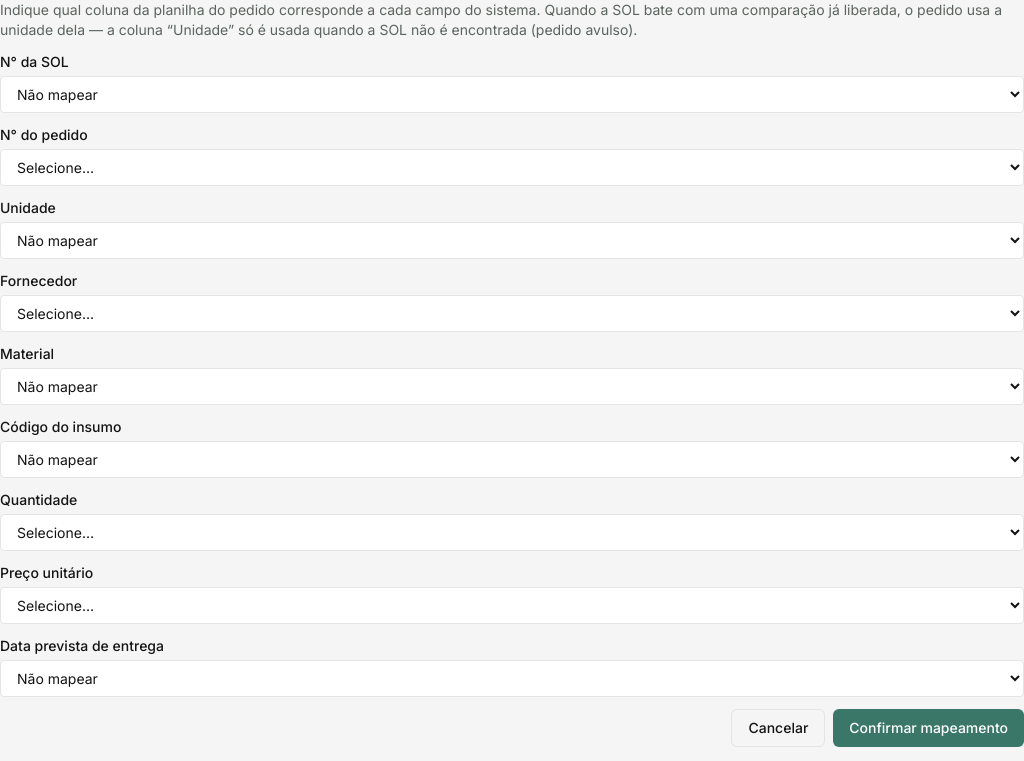
OrderImportMappingForm › exige que os campos obrigatórios sejam mapeados (SOL e Unidade ficam de fora — nenhum dos dois é obrigatório sozinho)
Click the button "Confirmar mapeamento" at (929, 728), box [833, 709, 1023, 747]
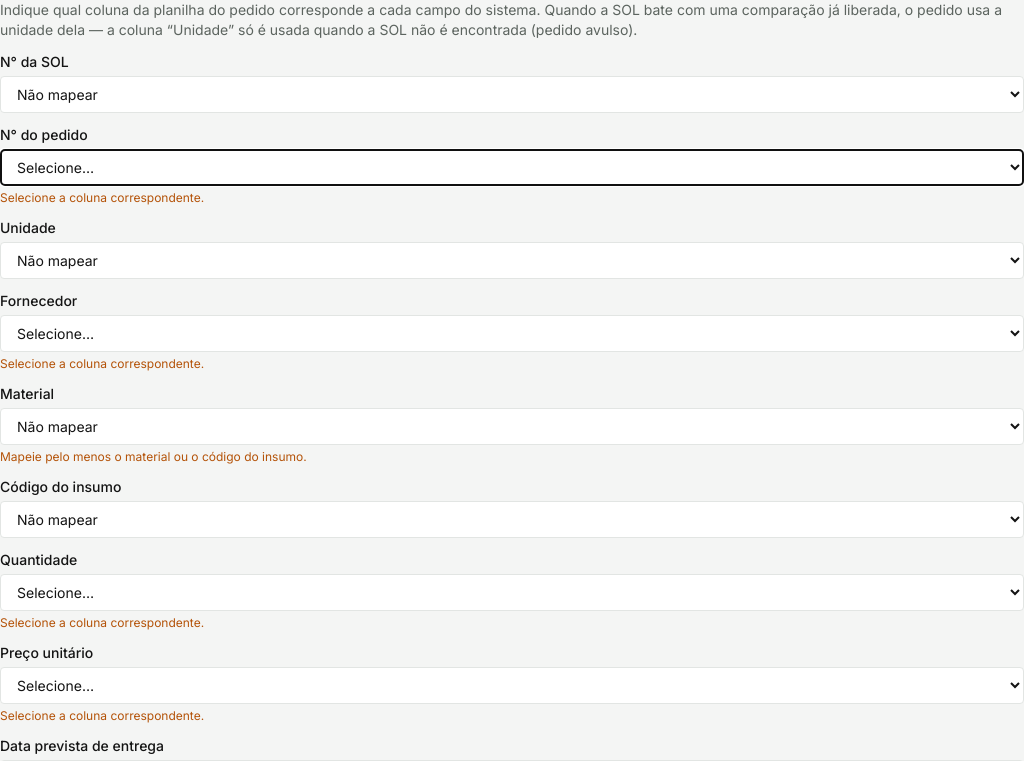
Expected: the text "Selecione a coluna correspondente." is shown 4 times, [0, 190, 204, 205]; [0, 356, 204, 371]; [0, 615, 204, 630]; [0, 708, 204, 723]
Expected: the text "Mapeie pelo menos o material ou o código do insumo." is shown, [0, 449, 307, 464]
